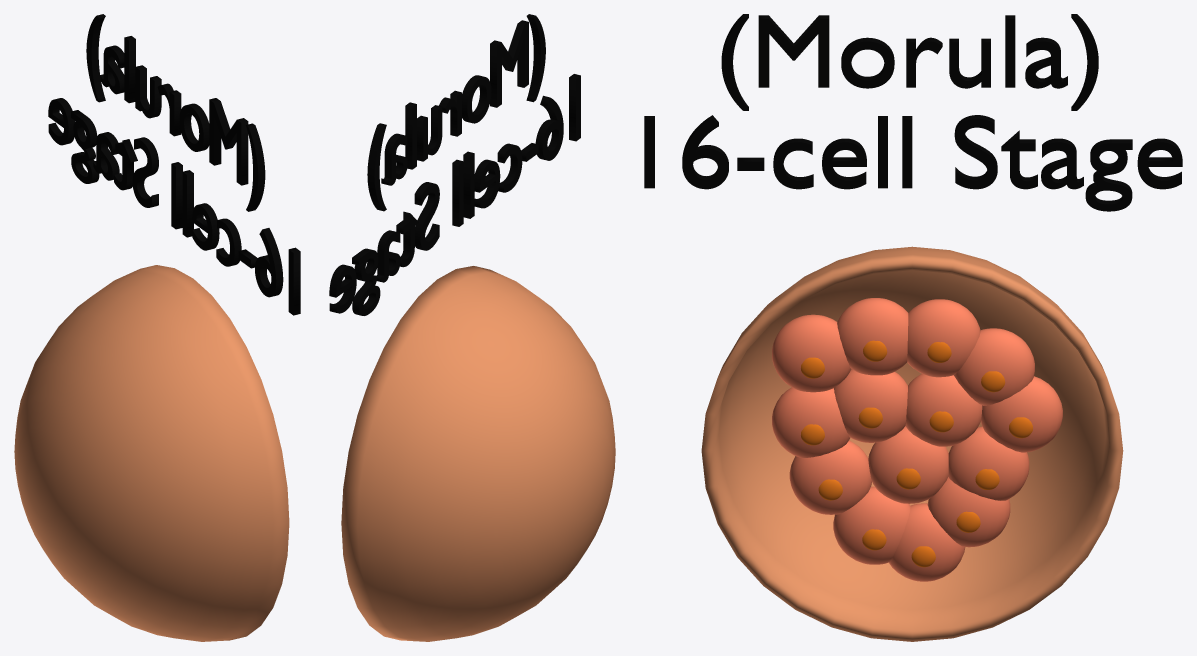
File: (5)Morula 16-cell stage.gltf
3 renders of one model, left to right at view 1: azimuth 30°, elevation 25°; view 2: azimuth 150°, elevation 25°; view 3: azimuth 270°, elevation 25°, orthographic. The views are drawn at different scales.
Visible parts, largest first — view 1: Sphere.038, Text.004; view 2: Sphere.038, Text.004; view 3: Sphere.038, Text.004, Sphere.040, Sphere.044, Sphere.042, Sphere.066, Sphere.060, Sphere.064, Sphere.046, Sphere.062, Sphere.058, Sphere.048 (+4 smaller).
Boxes of the visible parts, x1,y1,x2,y2 form: Sphere.038: (14,265,289,641); Text.004: (48,14,300,315); Sphere.038: (341,266,615,641); Text.004: (329,14,580,315); Sphere.038: (701,246,1123,641); Text.004: (644,14,1182,211); Sphere.040: (772,314,850,392); Sphere.044: (907,299,980,377); Sphere.042: (837,298,908,375); Sphere.066: (868,426,948,503); Sphere.060: (789,440,871,514); Sphere.064: (905,374,982,446); Sphere.046: (954,328,1034,405); Sphere.062: (833,369,907,442); Sphere.058: (772,387,850,457); Sphere.048: (981,376,1062,452).
Bounding box in the file's own units: 0.8225 × 2.8 × 2.22.
